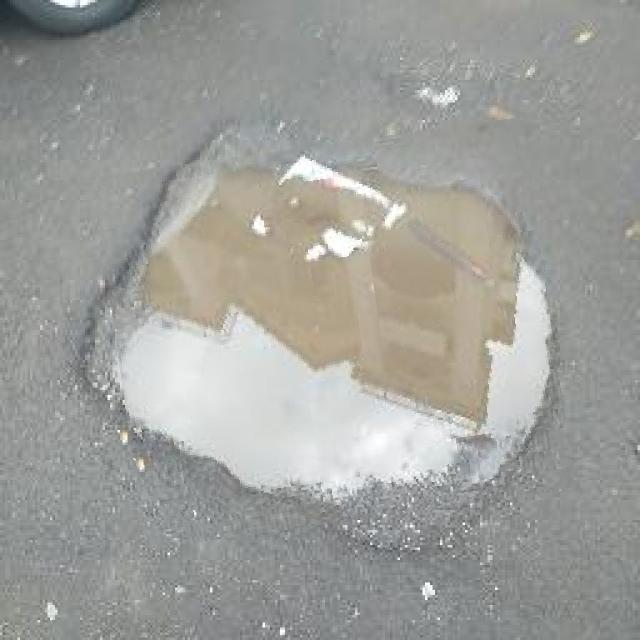puddle: (106, 133, 564, 537)
